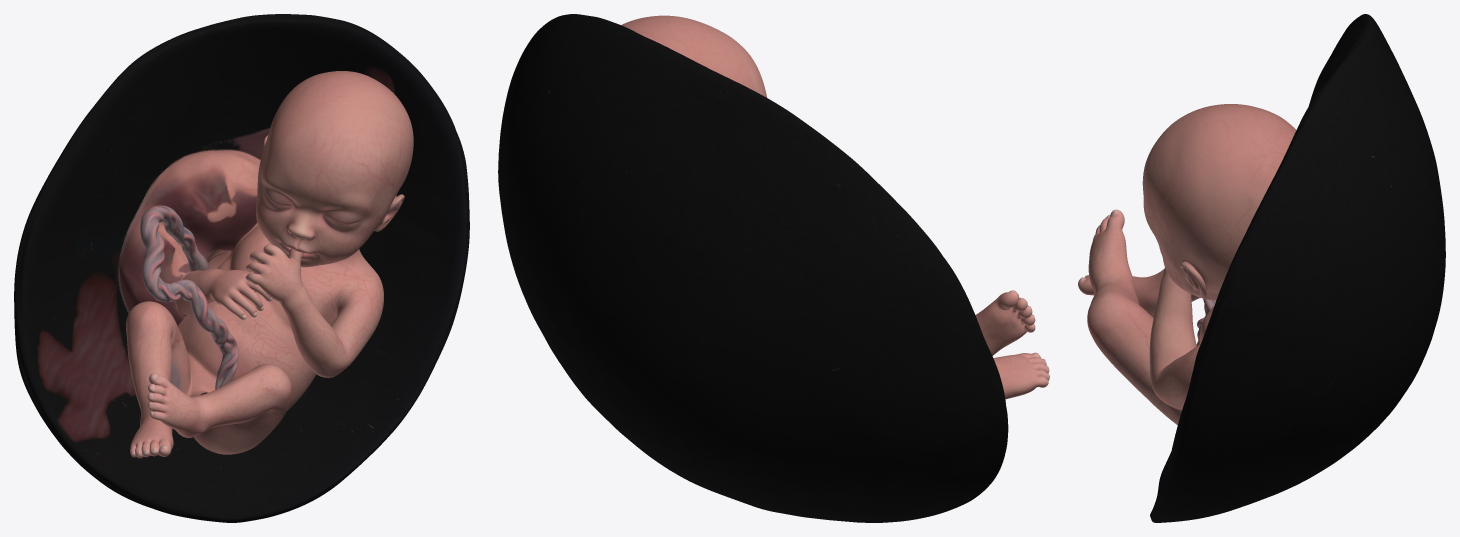
File: stade-07.glb
3 renders of one model, left to right at view 1: azimuth 30°, elevation 25°; view 2: azimuth 150°, elevation 25°; view 3: azimuth 270°, elevation 25°, orthographic. The views are drawn at different scales.
Bounding box in the file's own units: 1.9 × 1.83 × 1.23.
Materials: 1 (1 with a texture image).
